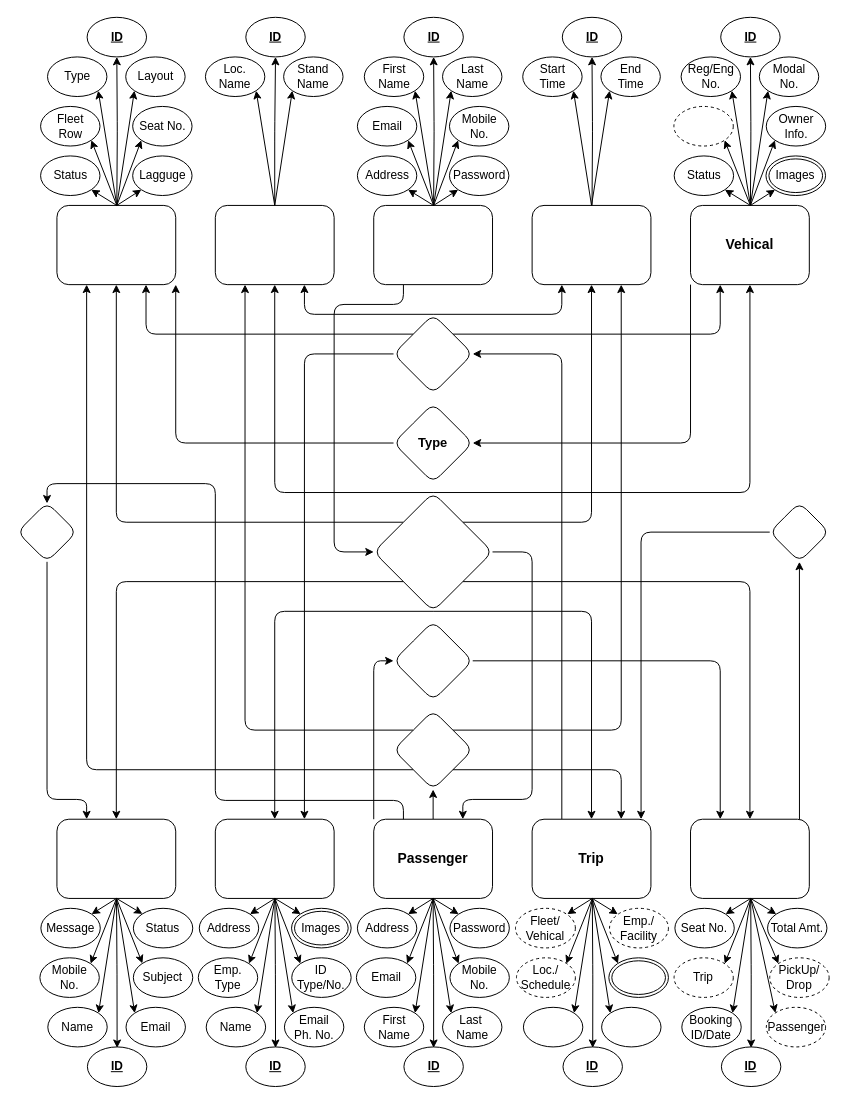
Some shapes in this 846 by 1104 pixel diagram are drawn without their labels. The centre of each missing label's shape, as x and y in pixels:
Admin: (433,244)
Book: (433,660)
Contain: (799,531)
Drop: (631,1026)
Employee: (274,858)
Fair ( ₹ ): (638,977)
Find: (433,749)
Fleet: (116,244)
Fleet ID/Type: (703,125)
Give: (46,531)
Inquiry: (116,858)
Location: (274,244)
Manage: (433,353)
Managed: (433,551)
Pick UP: (552,1026)
Schedule: (591,244)
Ticket: (749,858)
